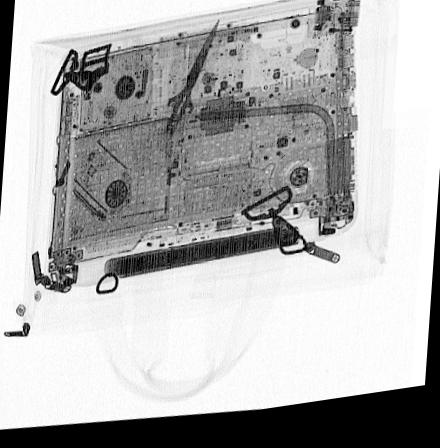Scissors: (162, 22, 227, 146)
